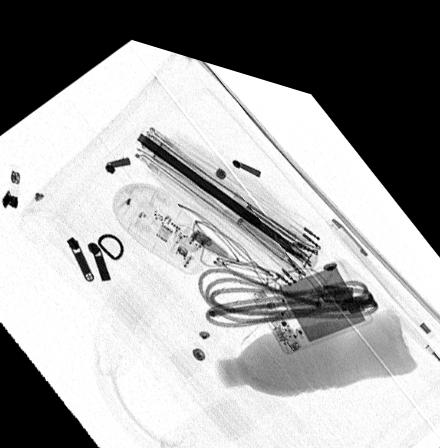Powerbank: (251, 238, 374, 340)
